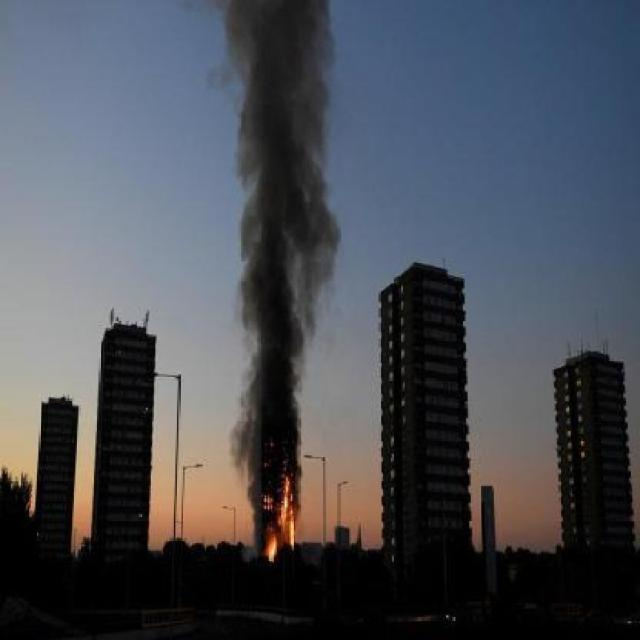Fire: (252, 467, 302, 573)
Smoke: (210, 0, 336, 500)
